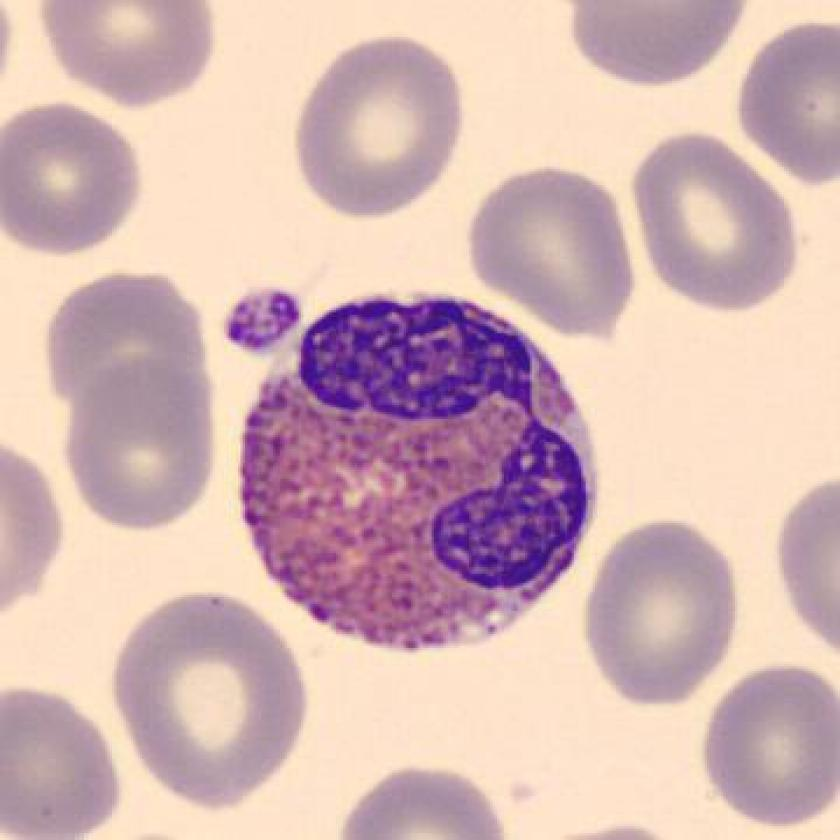eosinophil: (227, 279, 608, 665)
